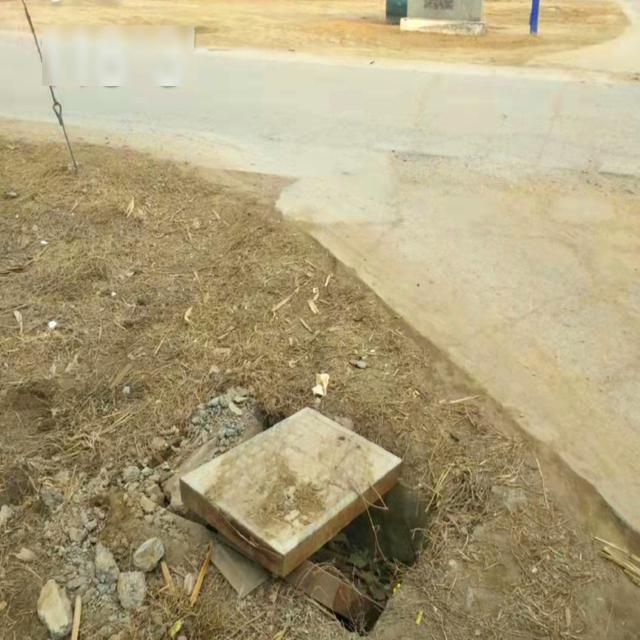circle: (143, 380, 453, 640)
